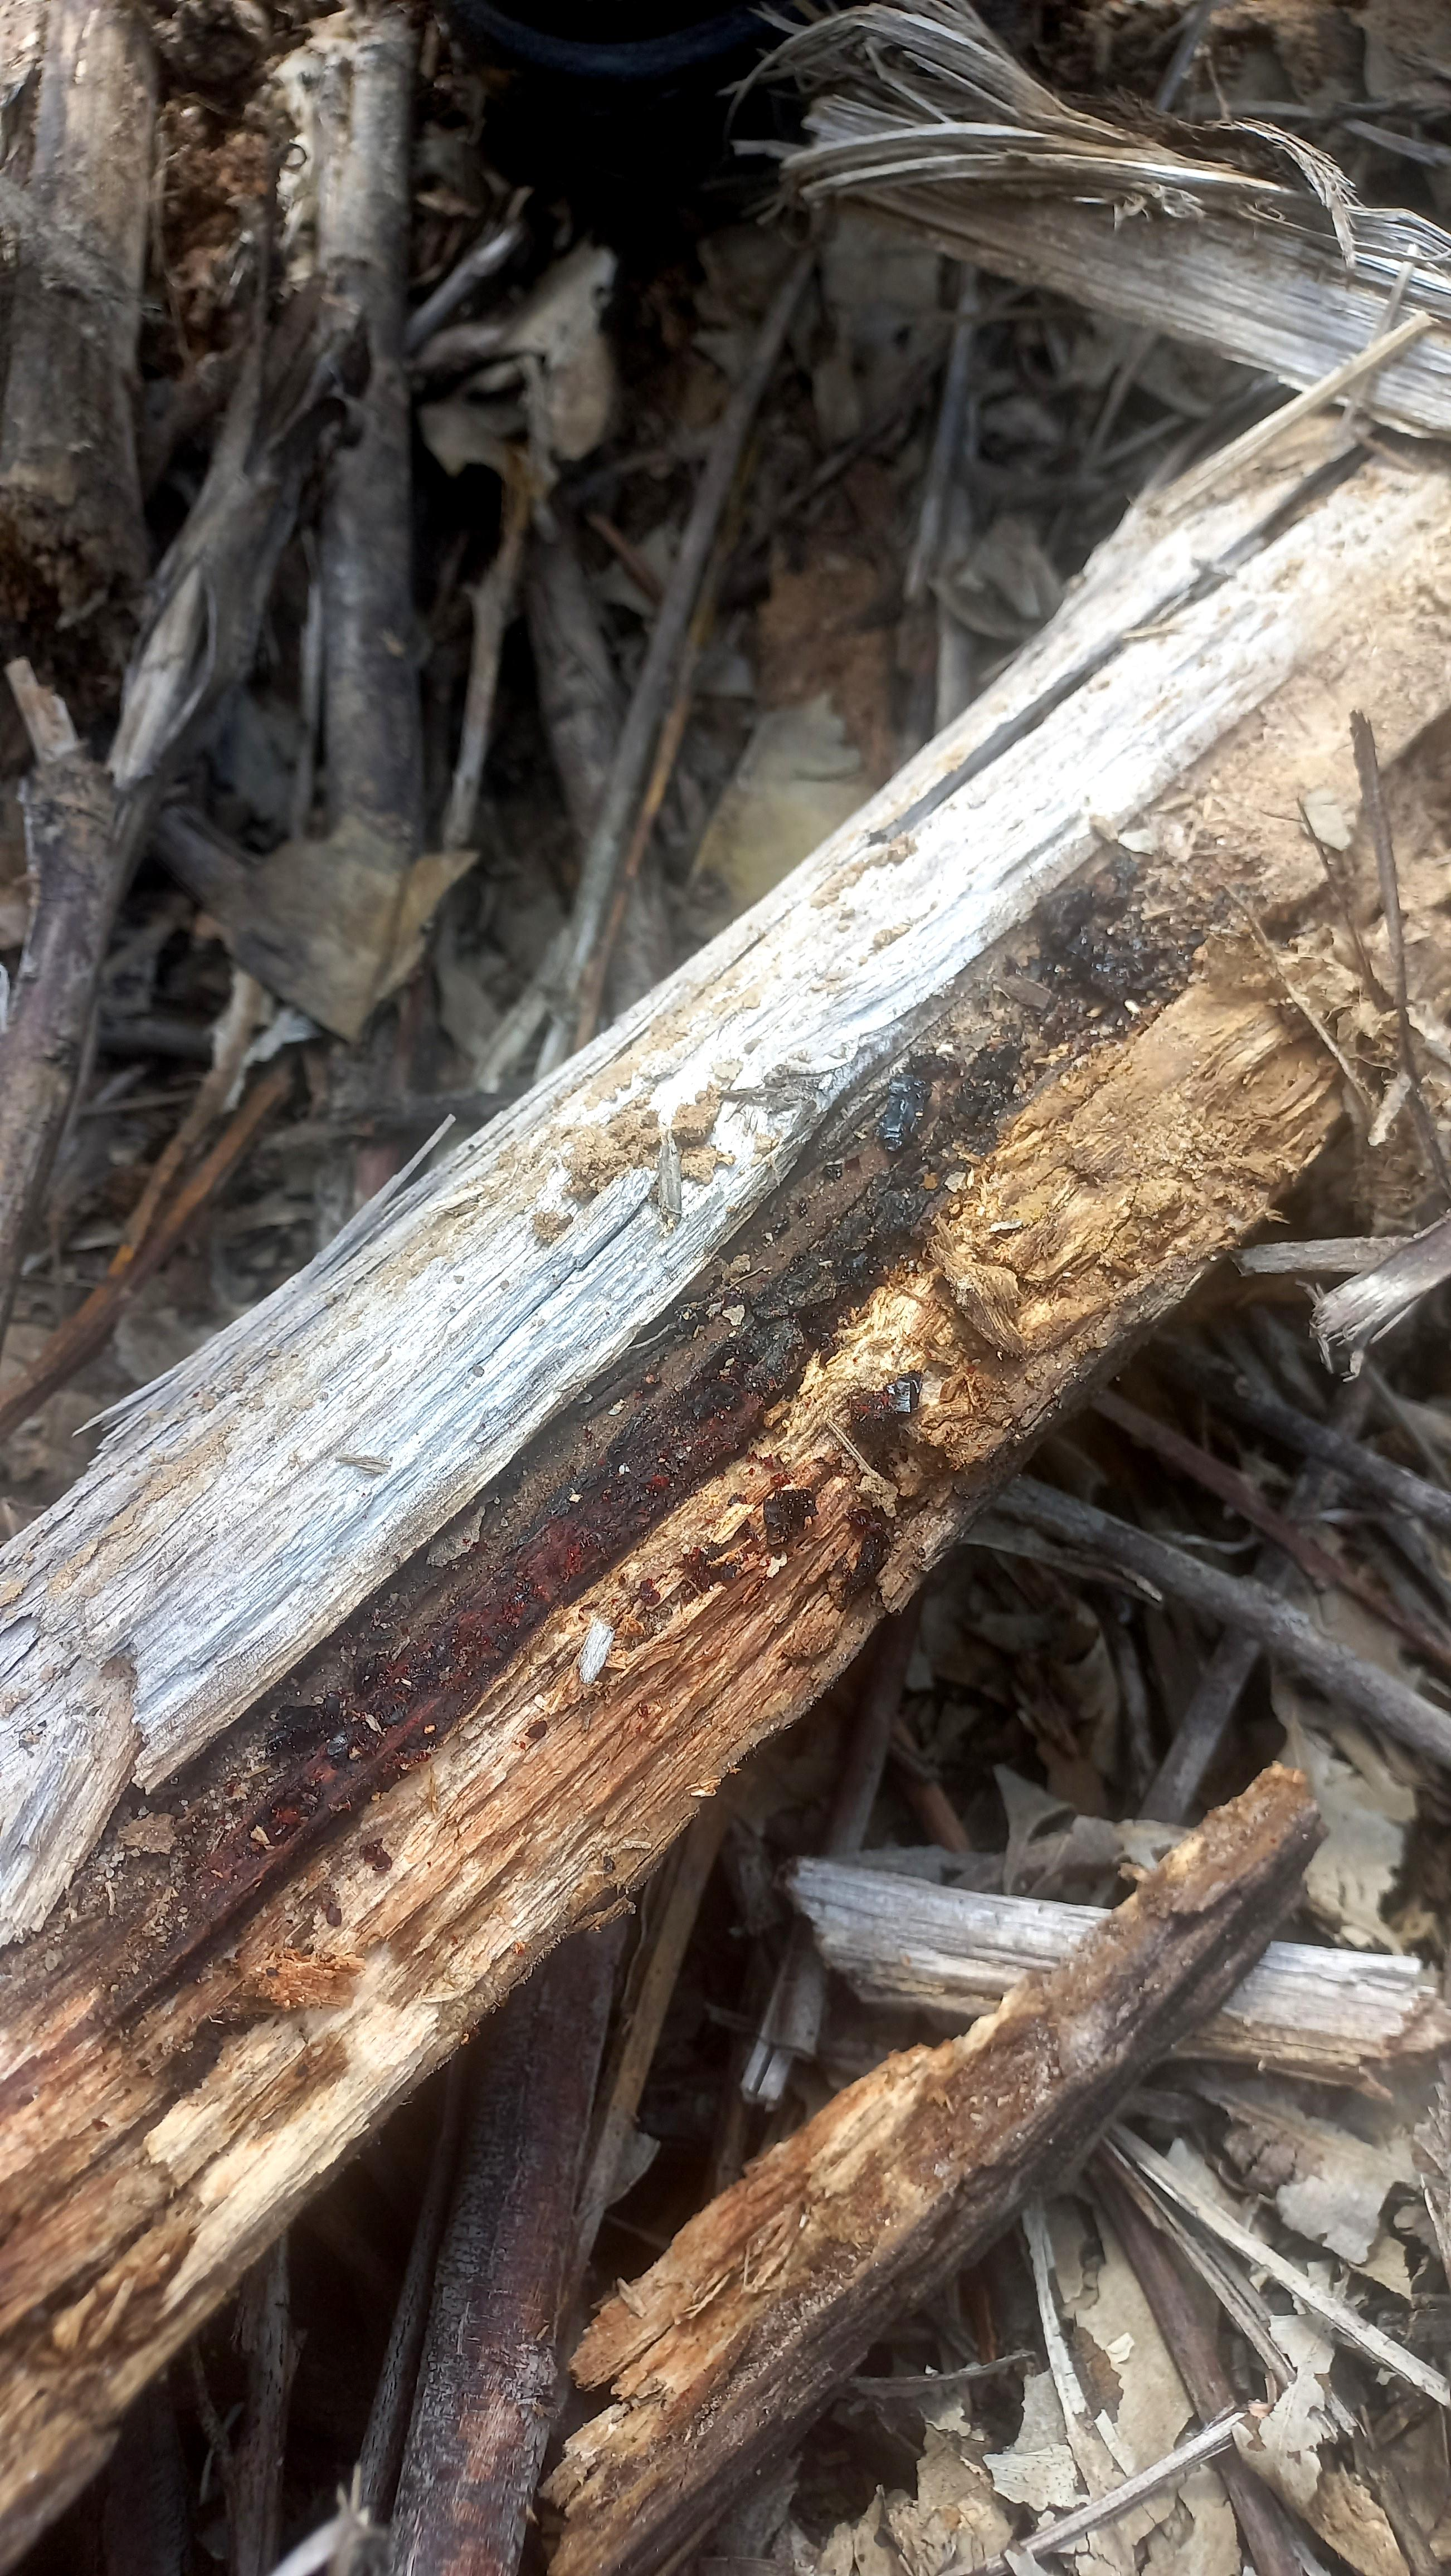Red Root Rot - Secretion: (119, 998, 1017, 1978)
